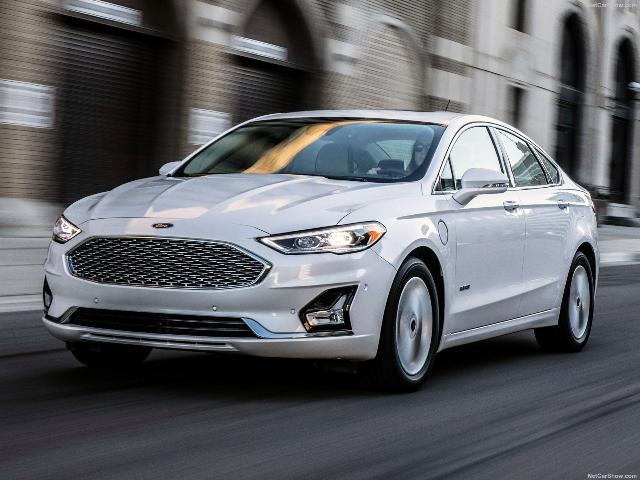ford: (42, 99, 600, 391)
